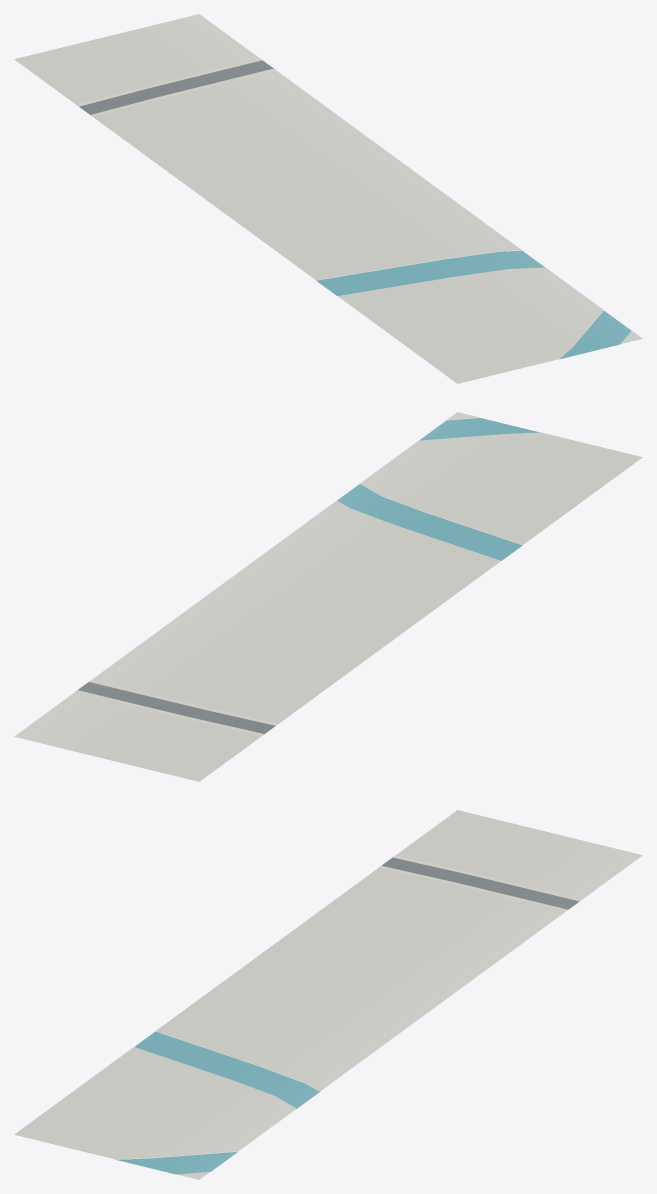
3 views of the same model, one above another, from view 1: azimuth 30°, elevation 25°; view 2: azimuth 150°, elevation 25°; view 3: azimuth 330°, elevation 25° (orthographic).
Parts seen in each view (by area): view 1: city; view 2: city; view 3: city.
Boxes of the visible parts, left/top/right/bottom form: city: left=14, top=14, right=642, bottom=383; city: left=14, top=412, right=642, bottom=781; city: left=14, top=810, right=642, bottom=1179.
Size of the model in its own units: 121 by 0.4 by 500.
